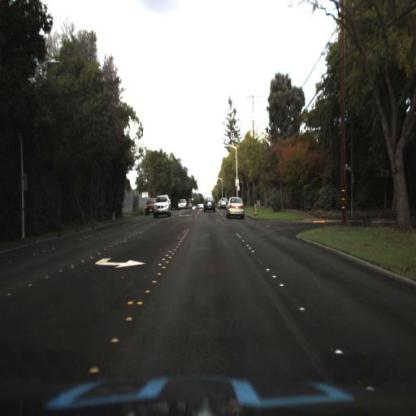car: (226, 194, 246, 221), (153, 194, 174, 217), (204, 195, 217, 216), (144, 199, 155, 215), (218, 196, 228, 210)
